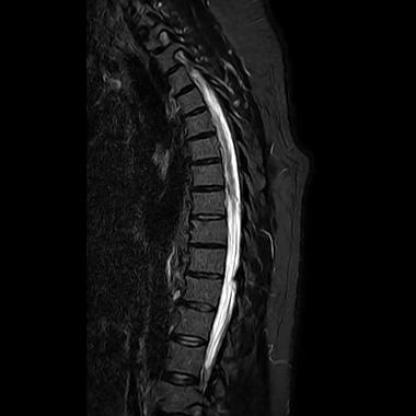Disc Protrusionrotation: (175, 89, 204, 113), (185, 128, 220, 144)
